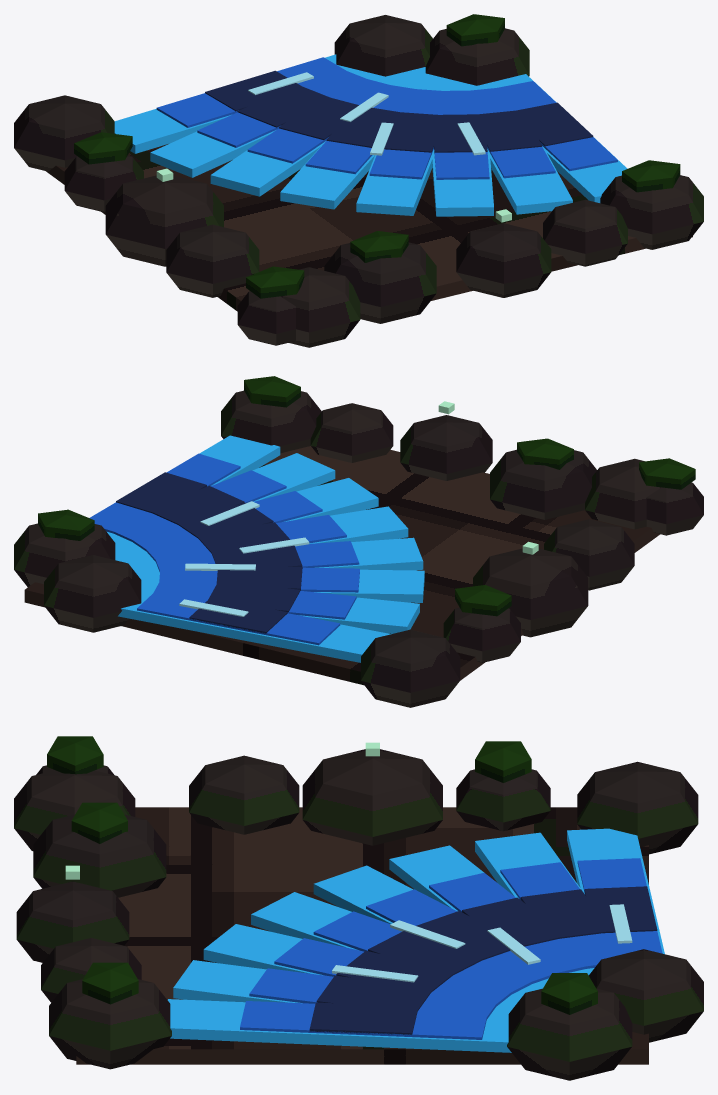
The model's file is stream_bend.glb.
3 renders of one model, top to bottom at view 1: azimuth 30°, elevation 25°; view 2: azimuth 150°, elevation 25°; view 3: azimuth 270°, elevation 25°, orthographic. The views are drawn at different scales.
Parts seen in each view (by area): view 1: stream_bend; view 2: stream_bend; view 3: stream_bend.
Part boxes in pixels (box(x1,y1,x2,y2)): stream_bend: box(14, 14, 703, 347); stream_bend: box(14, 376, 703, 707); stream_bend: box(14, 736, 703, 1080).
Bounding box in the file's own units: 2.43 × 0.39 × 2.41.
3 materials, 2 textured.
